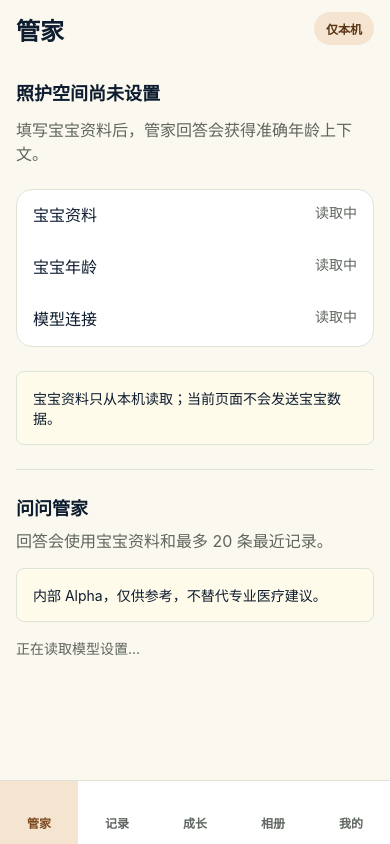
Test case: visits 相册 through its accessible tab
Expected: the heading "照护空间尚未设置" is shown, [16,83,160,104]
Click the tab labelled "相册" at coordinates (273, 824), box [261,816,285,831]
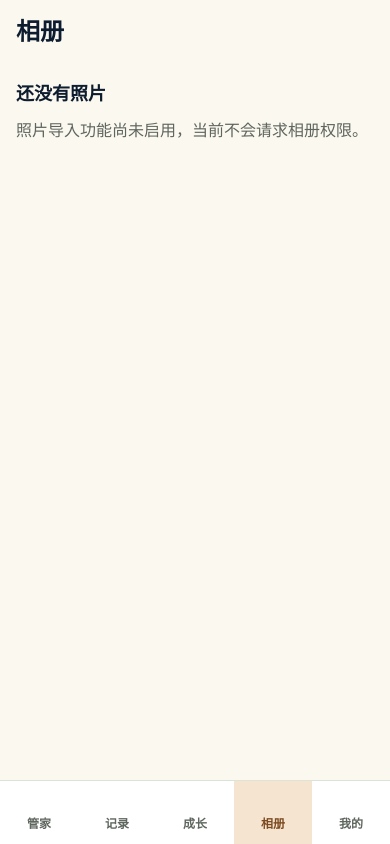
Expected: the heading "还没有照片" is shown, [16,83,106,104]
